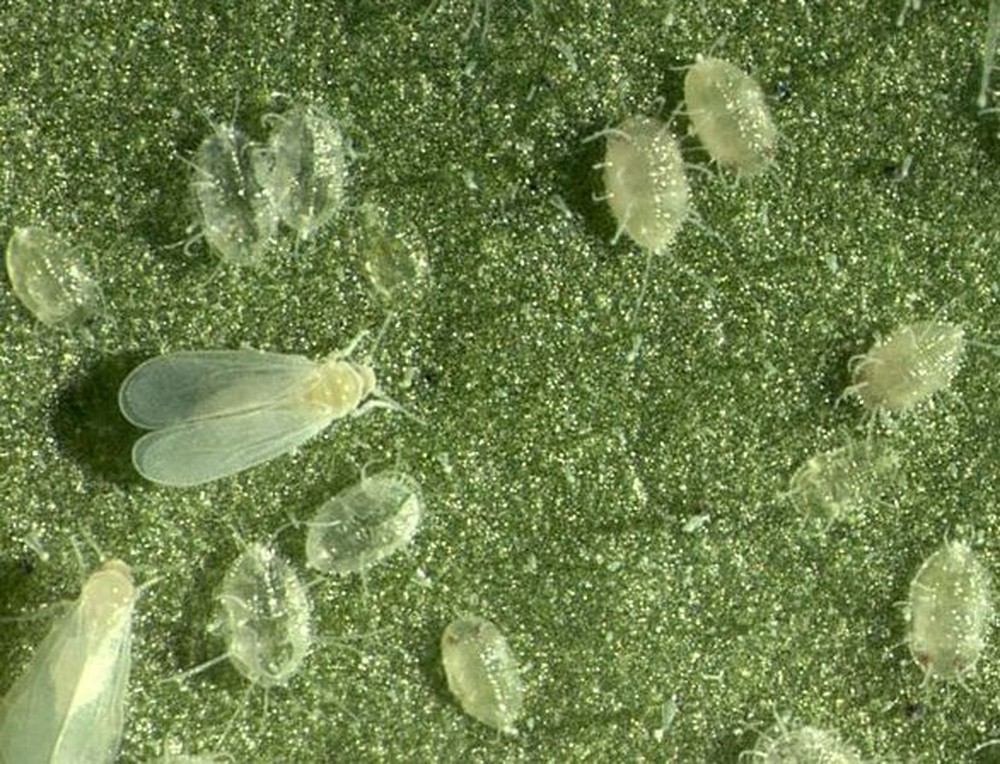Mosca Blanca: (104, 322, 433, 486)
